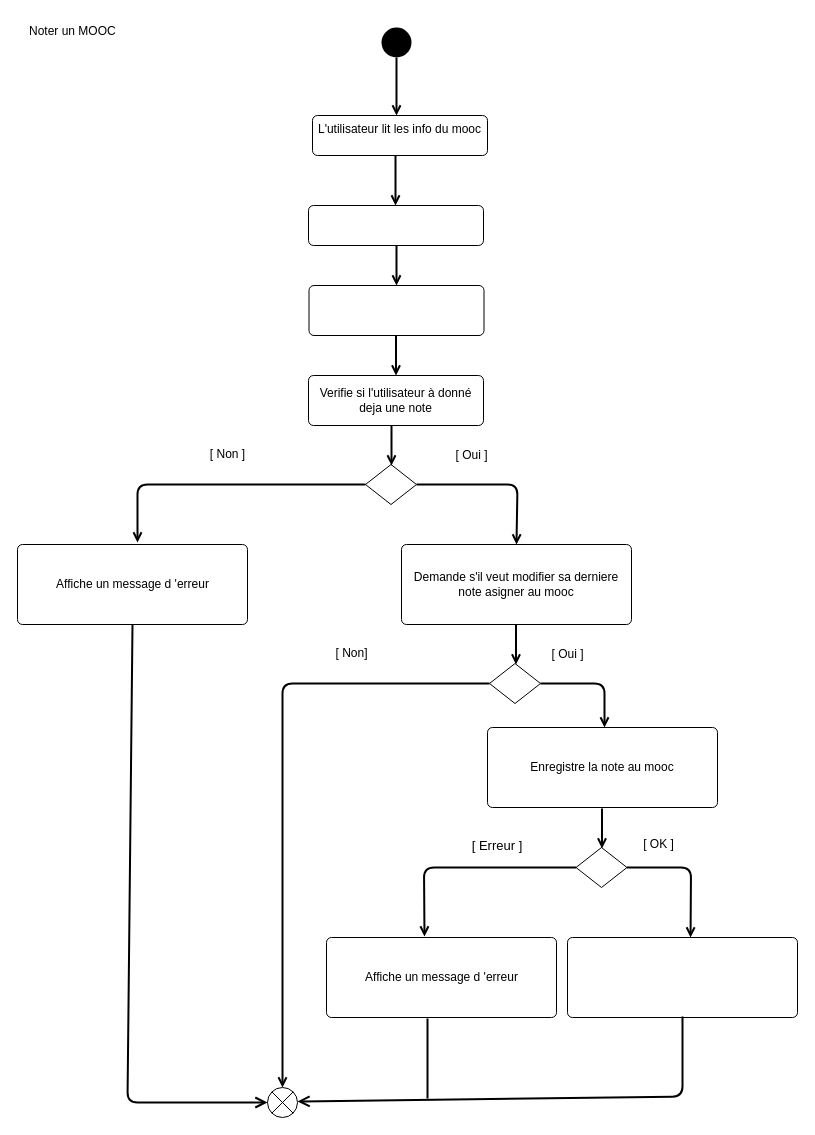
This 815x1135 diagram has some shape labels left out. The box of each missing label's shape, as (x1, y1, x2, y2) in pixels:
Affiche un message reussite: (566, 936, 798, 1018)
Clique sur les etoiles pour le donner une note: (308, 204, 484, 246)
clique sur Post Review pour Enregistrer la note: (308, 284, 484, 336)
